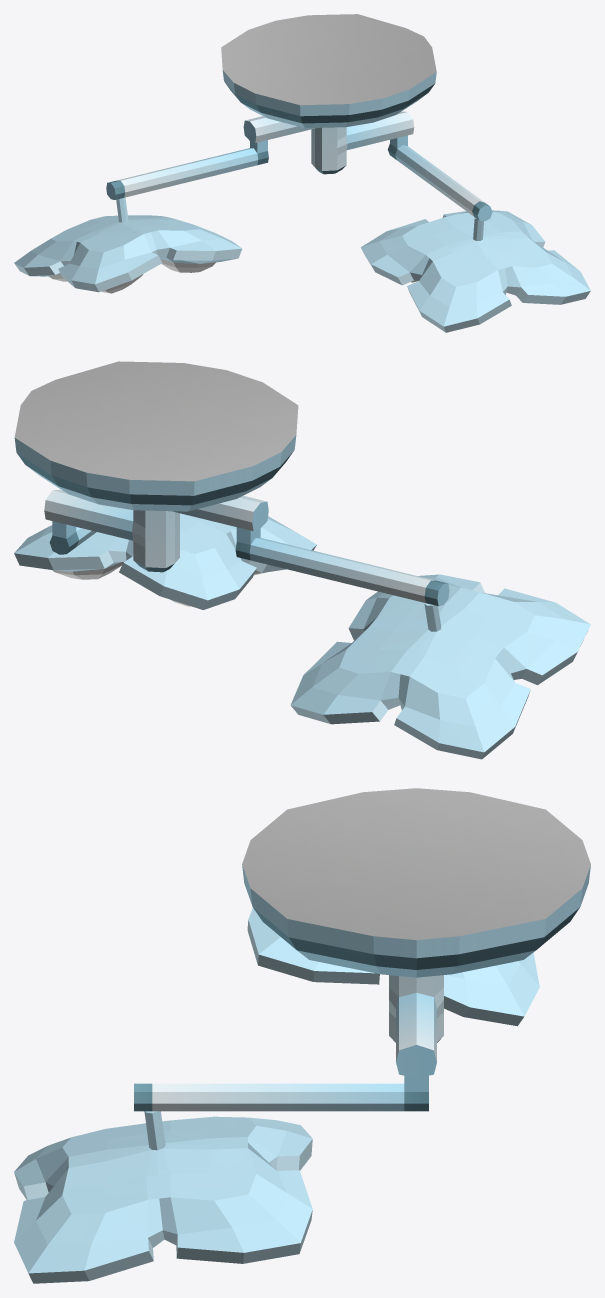
Rendered from overhead_light.glb.
The picture shows the model from 3 angles, top to bottom: view 1: azimuth 30°, elevation 25°; view 2: azimuth 150°, elevation 25°; view 3: azimuth 270°, elevation 25°; orthographic projection. The views are drawn at different scales.
Parts seen in each view (by area): view 1: light_fixture, light_2, light_1; view 2: light_fixture, light_1, light_2; view 3: light_fixture, light_2, light_1.
Part boxes in pixels (bbox=[...]): light_fixture: bbox=[106, 14, 492, 221]; light_2: bbox=[361, 210, 590, 332]; light_1: bbox=[14, 197, 242, 293]; light_fixture: bbox=[14, 361, 449, 606]; light_1: bbox=[290, 574, 590, 759]; light_2: bbox=[14, 513, 316, 609]; light_fixture: bbox=[134, 788, 590, 1111]; light_2: bbox=[14, 1111, 312, 1283]; light_1: bbox=[247, 908, 539, 1026].
Size of the model in its own units: 1.85 by 0.7836 by 1.28.
1 material, 1 textured.
